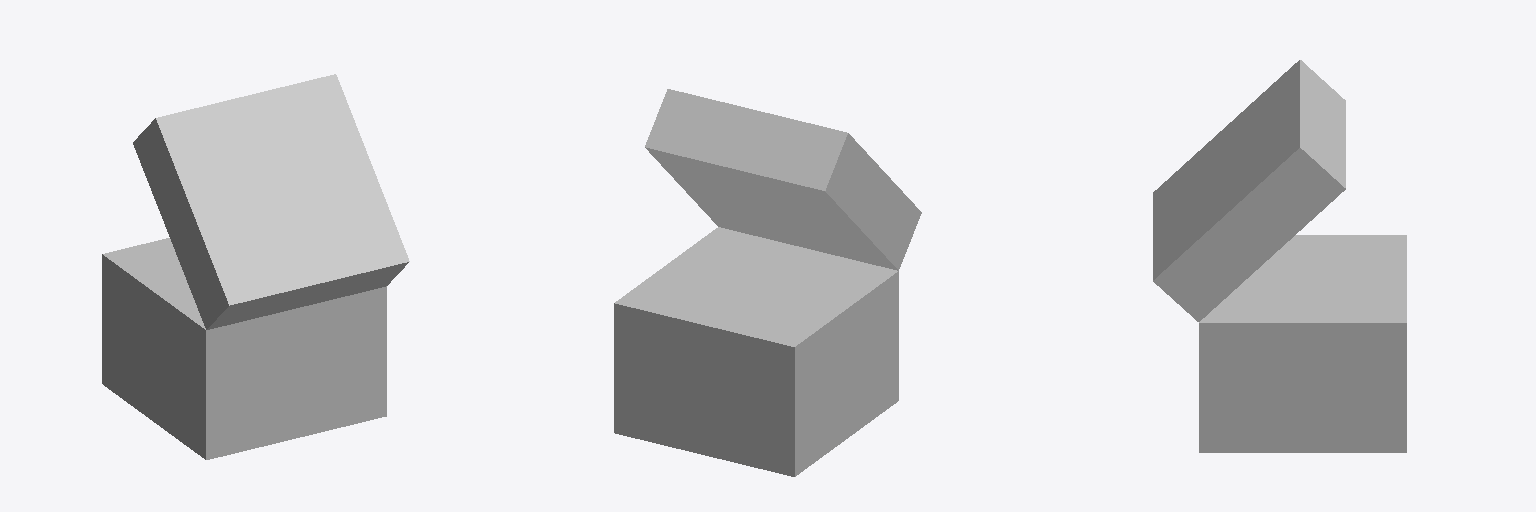
File: chest_open.obj
3 views of the same model, side by side, from view 1: azimuth 30°, elevation 25°; view 2: azimuth 150°, elevation 25°; view 3: azimuth 270°, elevation 25° (orthographic).
Visible parts, largest first — view 1: 1, 4, 3, 6; view 2: 5, 6, 3; view 3: 3, 6, 1, 5.
Part boxes in pixels (left/top/right/bottom): 1: left=156, top=74, right=409, bottom=305; 4: left=206, top=262, right=408, bottom=459; 3: left=102, top=118, right=228, bottom=459; 6: left=103, top=238, right=205, bottom=329; 5: left=614, top=89, right=847, bottom=476; 6: left=615, top=147, right=897, bottom=346; 3: left=795, top=133, right=921, bottom=476; 3: left=1153, top=148, right=1406, bottom=452; 6: left=1199, top=235, right=1406, bottom=322; 1: left=1153, top=60, right=1299, bottom=279; 5: left=1300, top=60, right=1345, bottom=187.
Bounding box in the file's own units: 1 × 1.62 × 1.22.